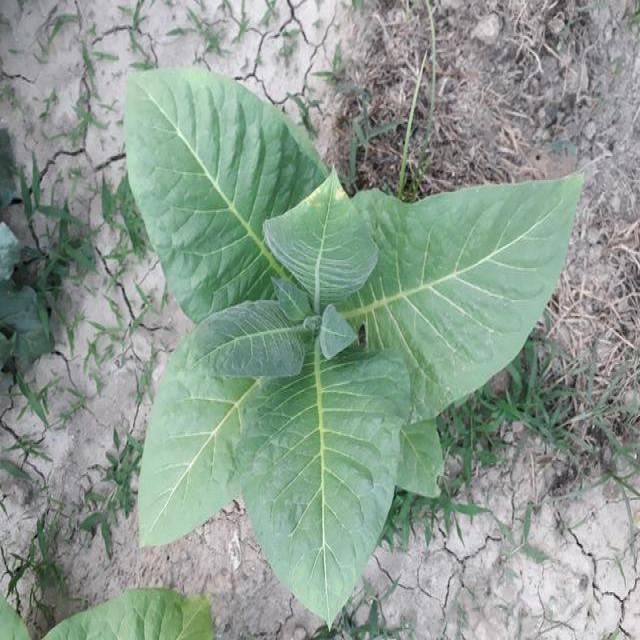crop: (114, 78, 576, 612)
